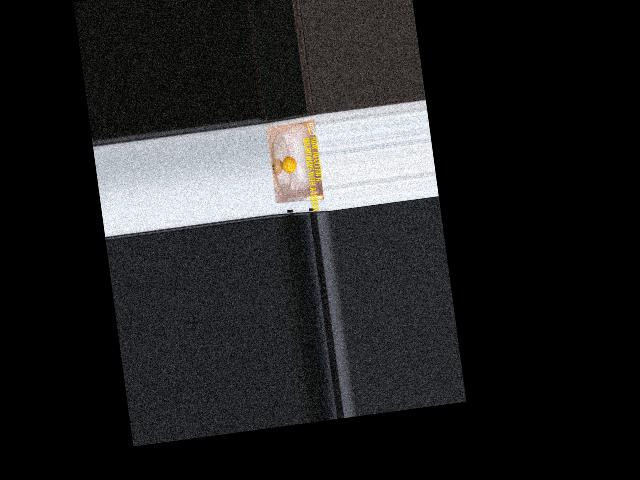lemon: (278, 154, 300, 182)
